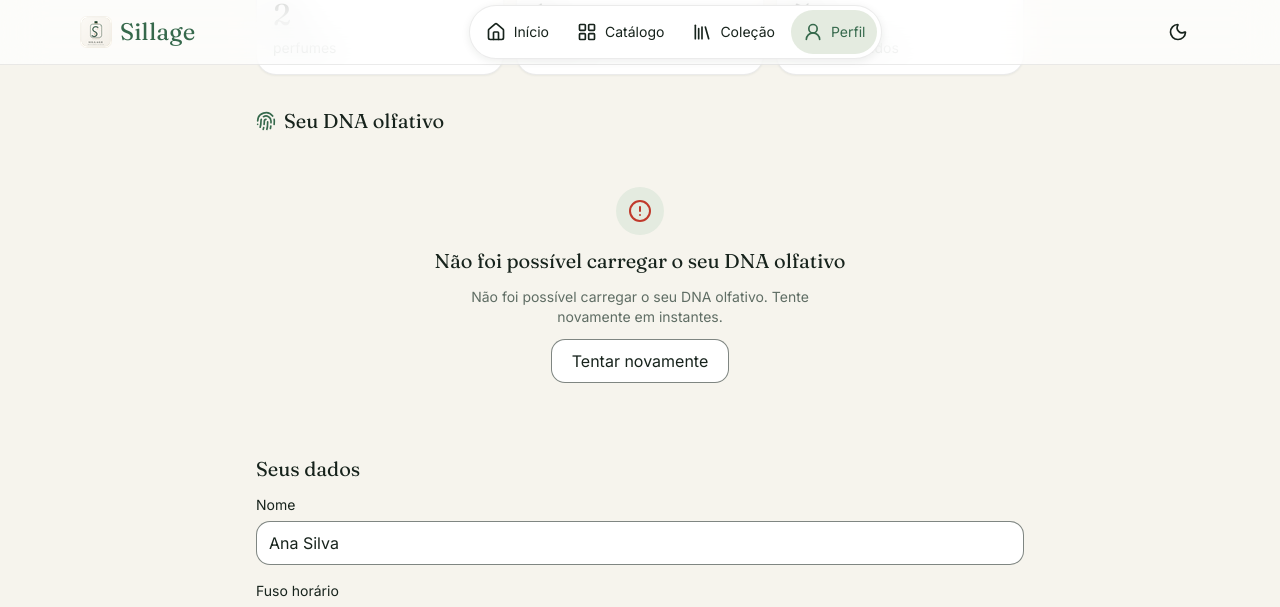
Test: ProfilePage › DNA olfativo › falha do DNA mostra erro com tentar de novo e não esconde o resto
(page scrolled)
expect the text "Não foi possível carregar o seu DNA olfativo. Tente novamente em instantes." is shown: met, box [448,286,832,326]
expect the heading "Seus dados" is shown: met, box [256,456,360,480]
Click the button "Tentar novamente". click: {"x": 640, "y": 360}
box: [551,338,729,382]
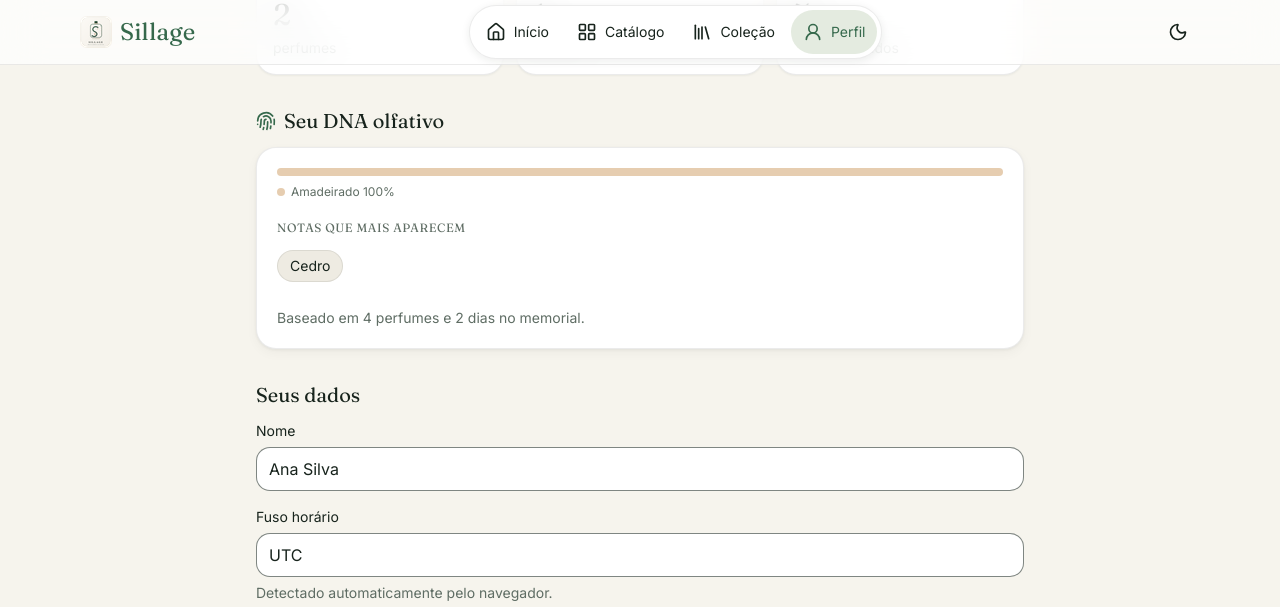
expect the list named "Famílias olfativas" is shown: met, box [277,184,395,198]
